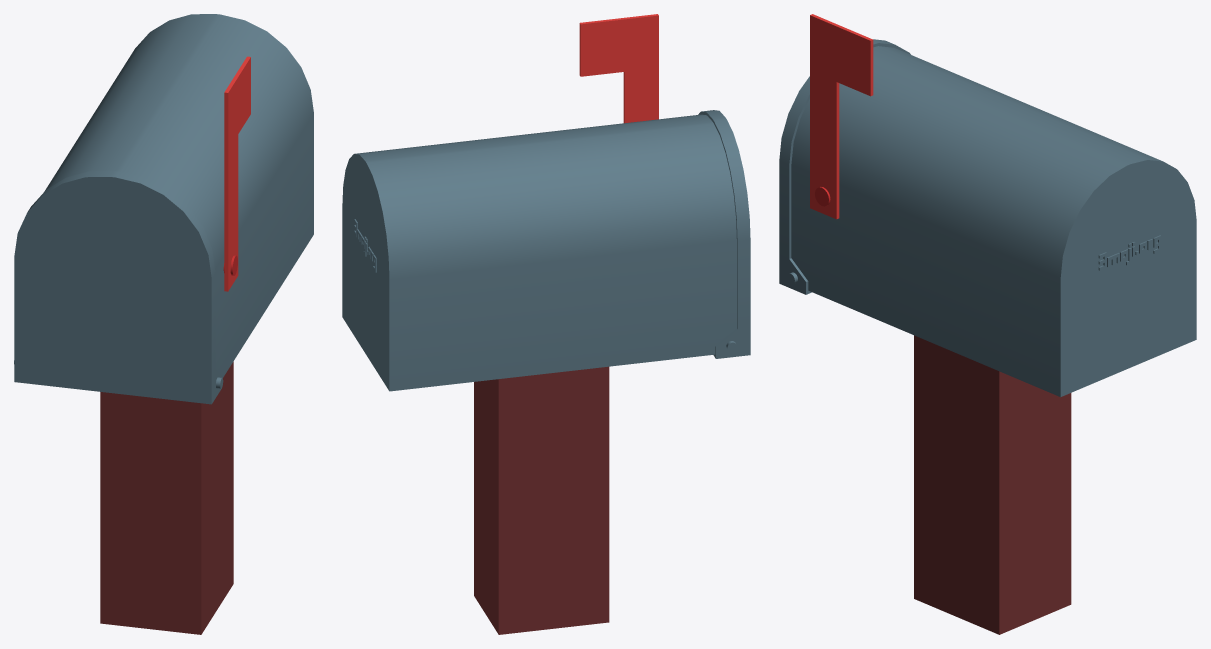
Rendered from closed_mailbox_with_raised_flag.glb.
3 renders of one model, left to right at view 1: azimuth 30°, elevation 25°; view 2: azimuth 150°, elevation 25°; view 3: azimuth 270°, elevation 25°, orthographic. The views are drawn at different scales.
Visible parts, largest first — view 1: Cube.970; view 2: Cube.970; view 3: Cube.970.
Part boxes in pixels (left/top/right/bottom): Cube.970: left=14, top=14, right=313, bottom=634; Cube.970: left=342, top=14, right=750, bottom=634; Cube.970: left=779, top=14, right=1196, bottom=634.
Size of the model in its own units: 1.46 by 2.21 by 1.46.
Materials: 1 (1 with a texture image).
